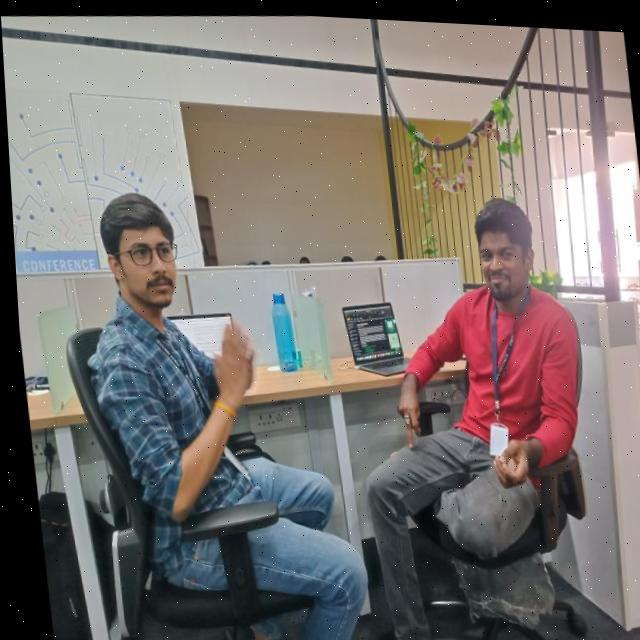id_card: (452, 288, 540, 461), (151, 325, 245, 479)
